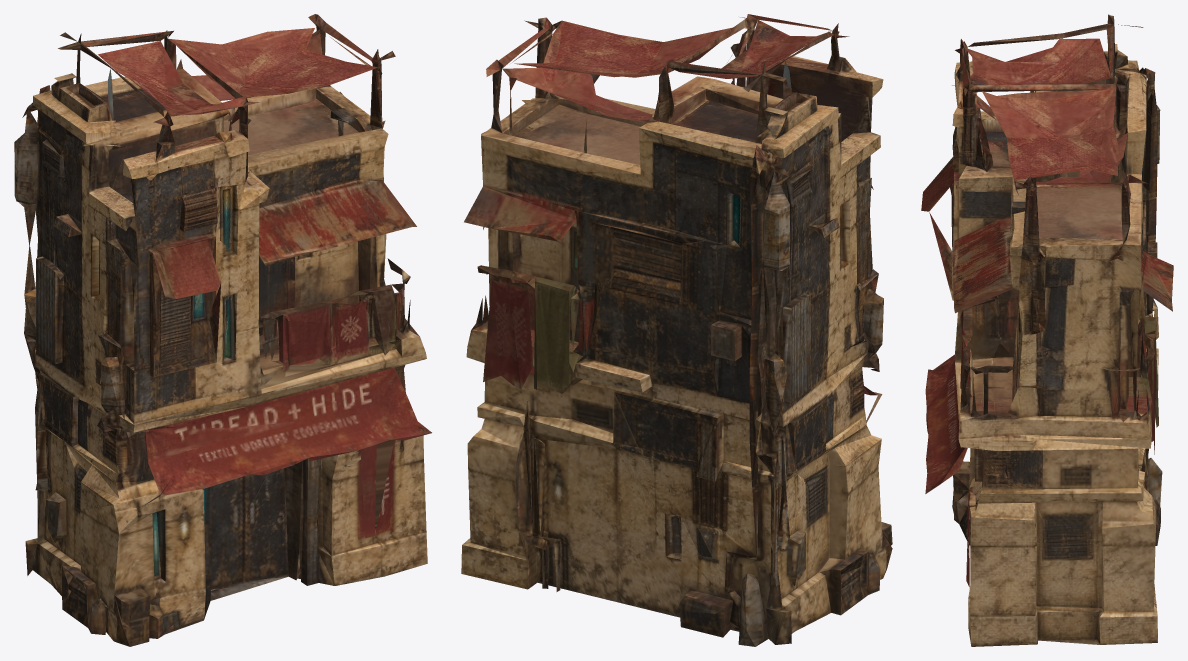
File: thread.glb
3 renders of one model, left to right at view 1: azimuth 30°, elevation 25°; view 2: azimuth 150°, elevation 25°; view 3: azimuth 270°, elevation 25°, orthographic. The views are drawn at different scales.
Bounding box in the file's own units: 1.18 × 1.9 × 0.8536.
Materials: 1 (1 with a texture image).
